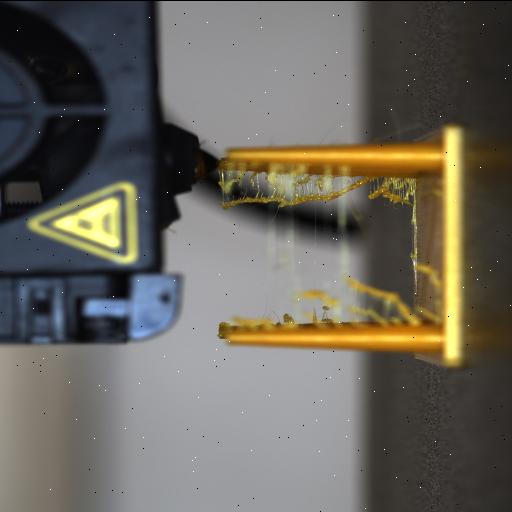stringing: (218, 158, 436, 330), (219, 170, 291, 210), (371, 176, 417, 206)
